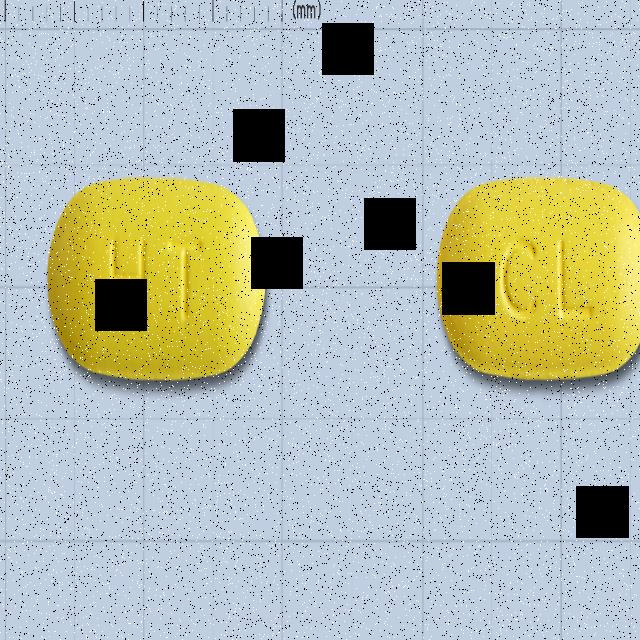Clathrocin: (46, 178, 267, 384), (435, 171, 640, 380)
